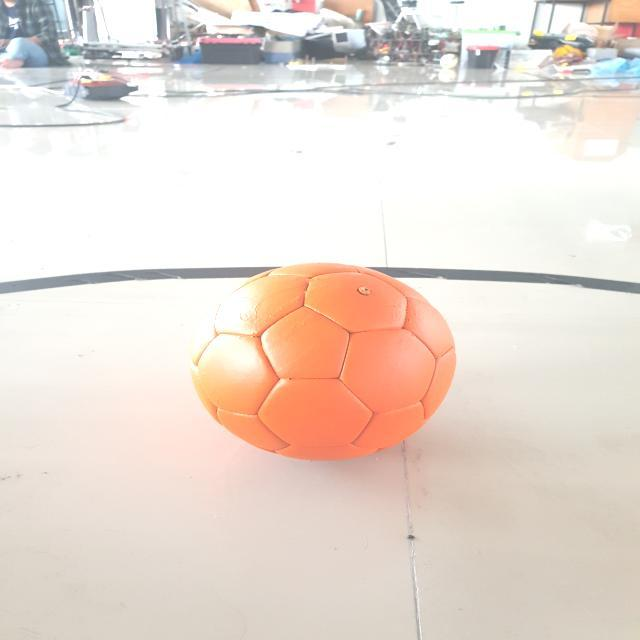bola: (169, 255, 468, 468)
